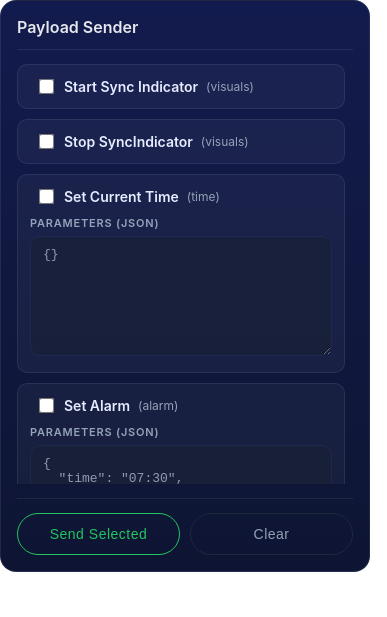
DevTools › Payload Selection and Sending › sends the selected payload bytes through the injected sender
The image size is (387, 617).
Click the checkbox labelled "Start Sync Indicator (visuals)" at [46, 86], box [39,79,54,94]
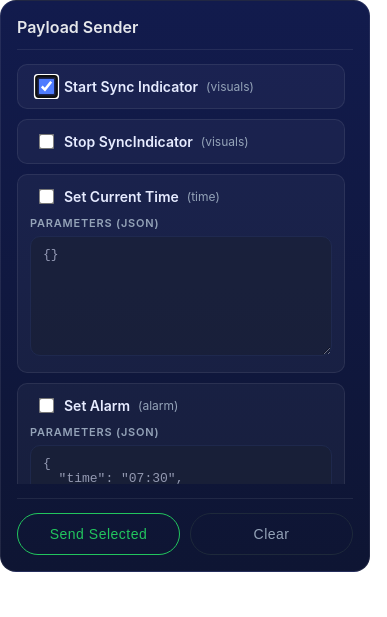
Click the button "Send Selected" at [98, 534], box [17,513,180,555]
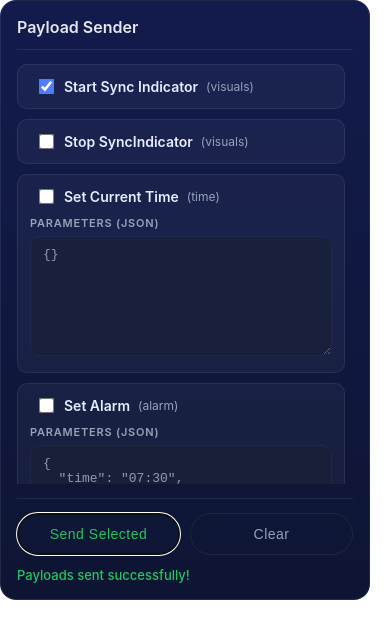
Expected: the message reads "Payloads sent successfully!", [17,567,190,583]
